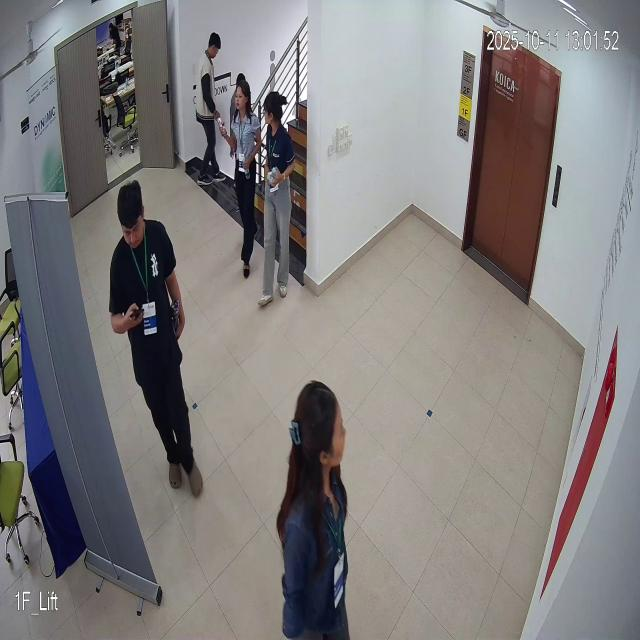face: (113, 174, 154, 259), (235, 79, 251, 112)
